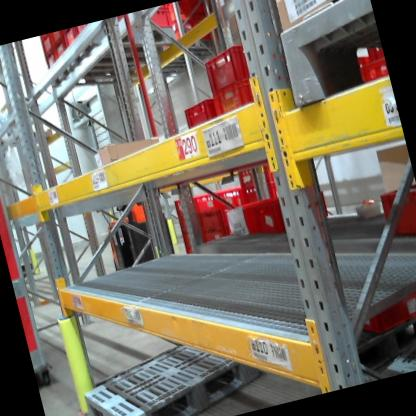pallet: (72, 295, 279, 416), (74, 19, 158, 80), (42, 52, 124, 108)
pallet_truck: (75, 129, 192, 284)
small_load_carrier: (221, 178, 332, 256), (344, 285, 416, 348), (194, 38, 263, 98), (206, 71, 266, 131), (374, 179, 416, 252), (233, 154, 288, 191), (230, 174, 285, 211), (167, 96, 218, 134), (120, 5, 175, 39), (356, 46, 392, 91), (170, 0, 218, 27), (179, 9, 216, 42), (193, 188, 226, 220), (201, 217, 231, 252), (215, 178, 245, 213), (197, 203, 226, 237), (170, 192, 199, 217), (44, 47, 66, 73), (51, 38, 72, 65), (63, 29, 83, 52), (40, 34, 56, 53)
